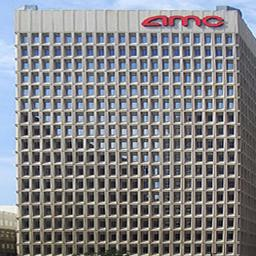building: (14, 3, 242, 256)
